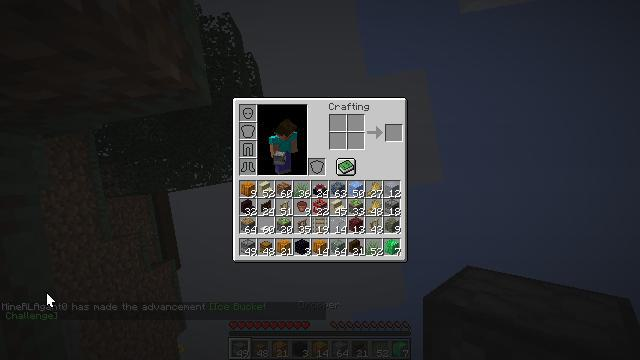cursor: (292, 46, 308, 56)
